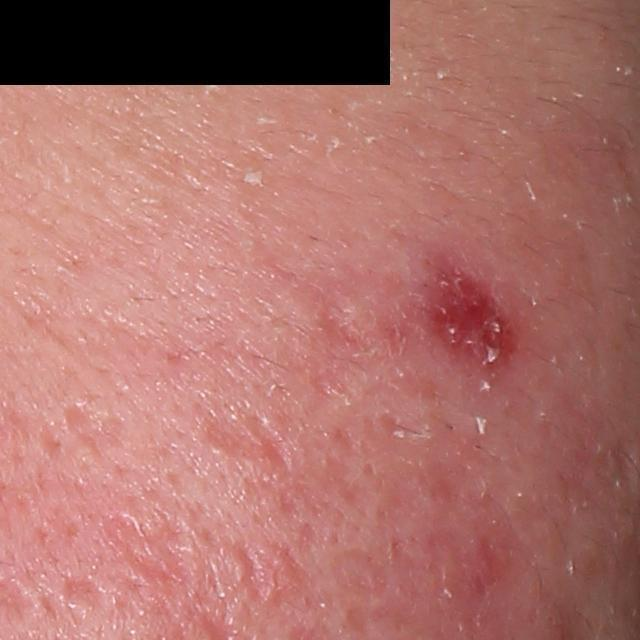atrophic_scar: (106, 508, 199, 618), (188, 400, 302, 484), (62, 400, 124, 459), (330, 547, 391, 602), (314, 299, 369, 355), (371, 397, 431, 447), (55, 573, 107, 616), (235, 545, 269, 609)
